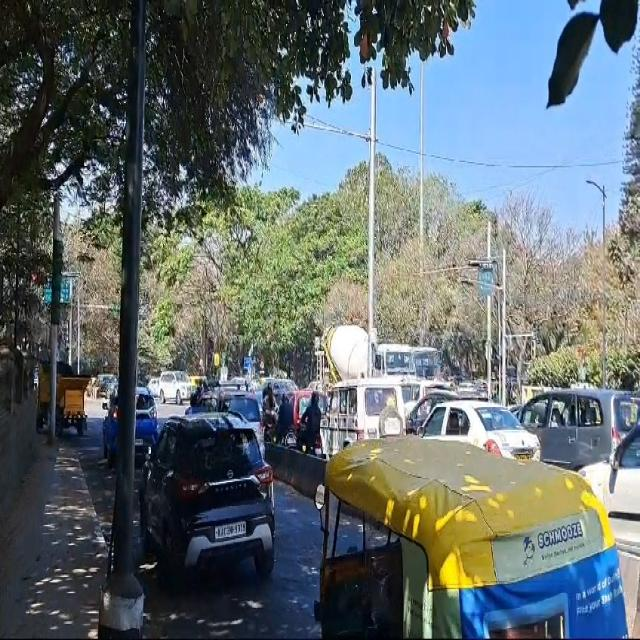cars: (139, 413, 278, 588), (526, 389, 639, 482), (415, 402, 541, 477), (321, 378, 406, 462), (159, 372, 196, 408)
